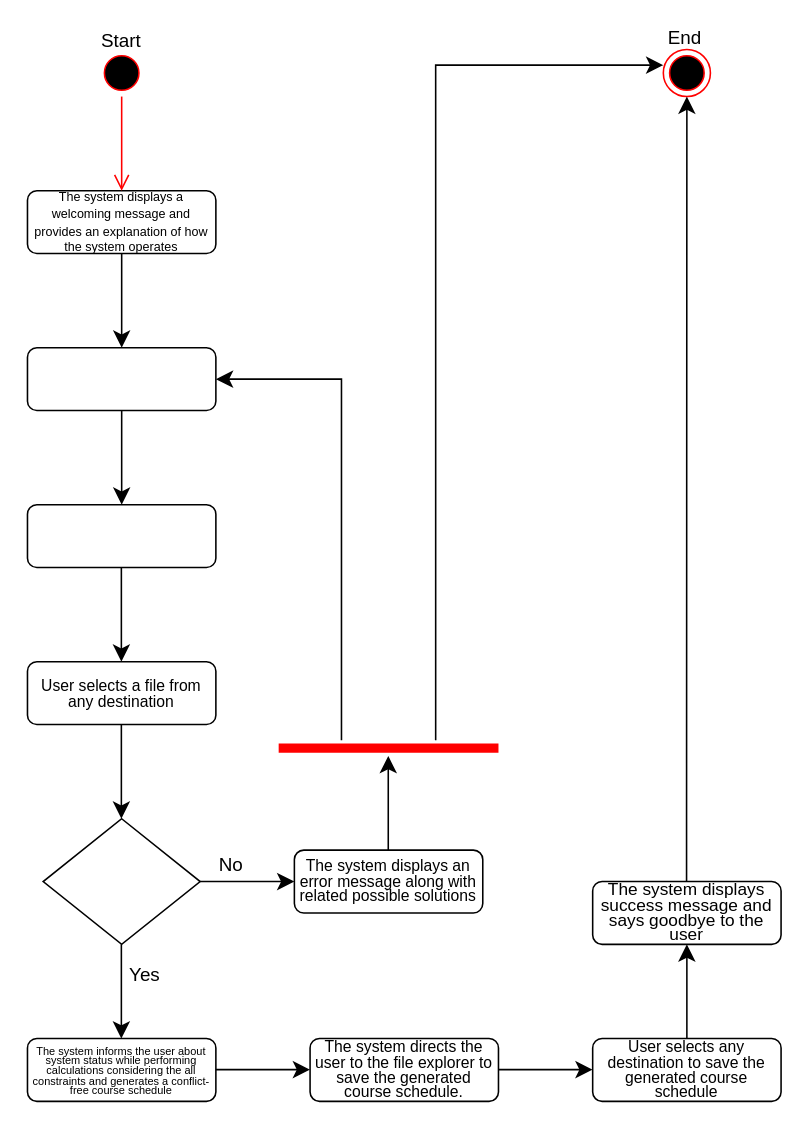
The diagram is 809 pixels wide and 1145 high, and some of its shapes have lost their labels. The shapes that lost their labels are listed below. From the top down, each one's centre as x and y in pixels, then its label:
[121,378]: User clicks on "Create Your Schedule!" button
[121,535]: The system directs the user to the file explorer to select a file for upload
[121,880]: Is the file in the correct format as specified?
